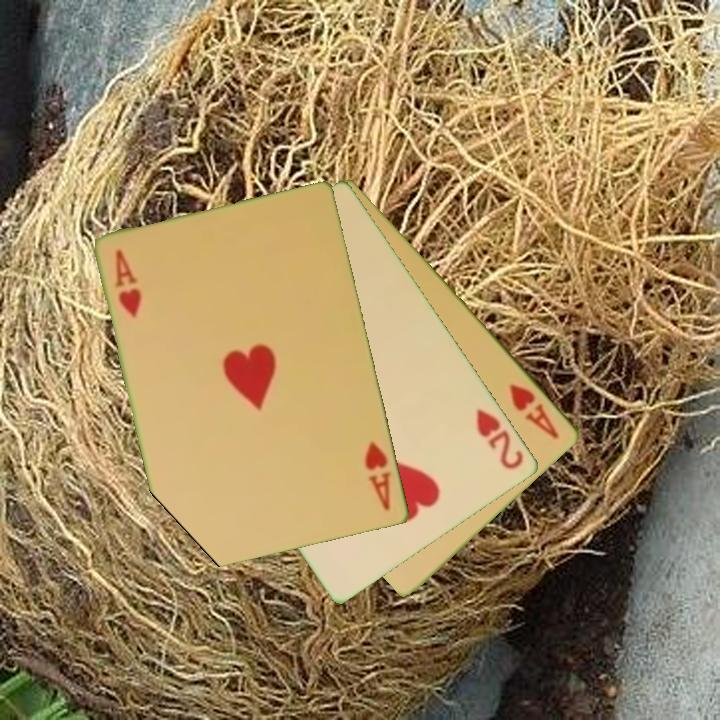2h: (473, 404, 527, 473)
Ah: (506, 380, 563, 442), (361, 438, 394, 514), (112, 246, 145, 322)
